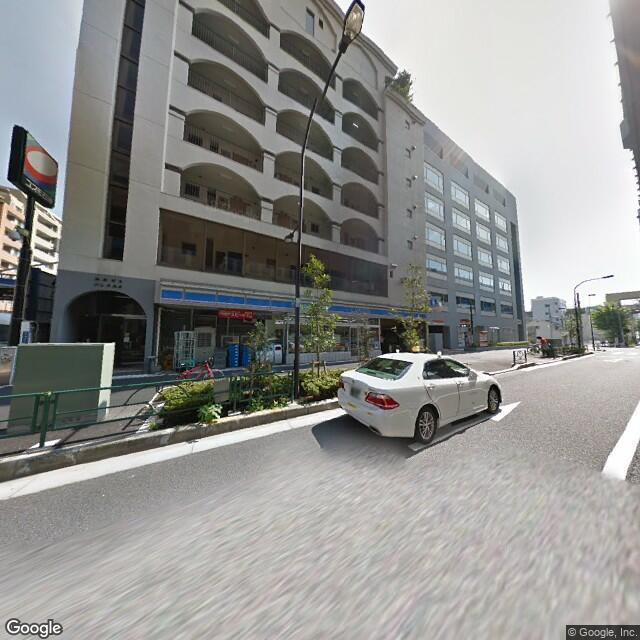lawson: (154, 274, 425, 326), (425, 290, 441, 311)
